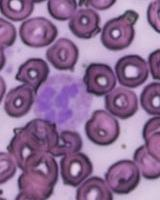N: (34, 72, 91, 130)
